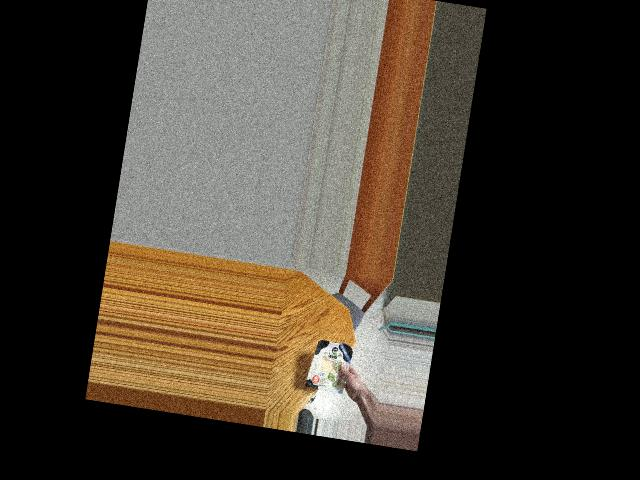cheese: (309, 332, 357, 403)
